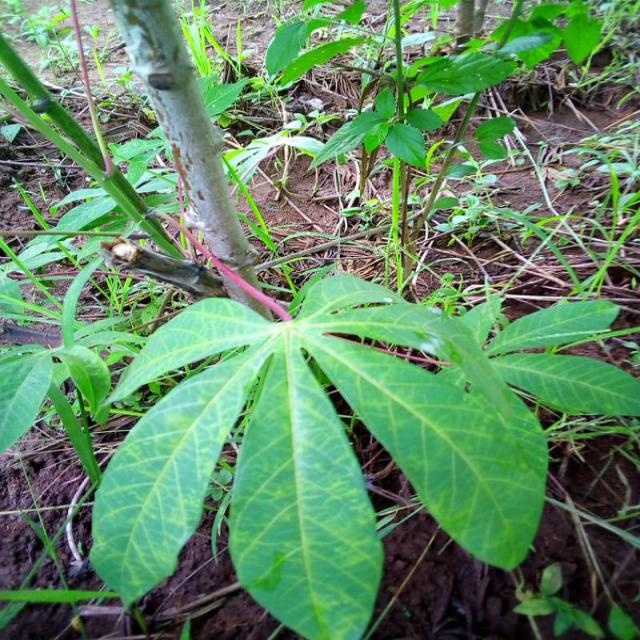cassava leaf: (89, 272, 550, 638), (226, 327, 384, 638), (88, 340, 260, 611)
